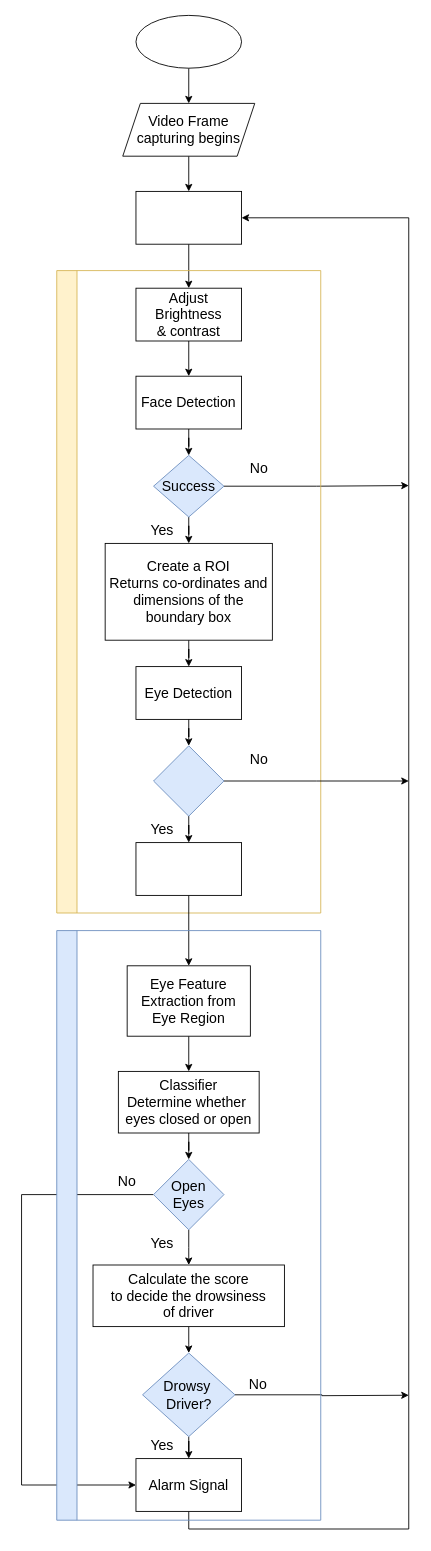
The diagram is 431 pixels wide and 1551 high, and some of its shapes have lost their labels. The shapes that lost their labels are listed below. From the top down, each one's box as (x1, y1, x2, y2) in pixels, then its label:
(135, 15, 242, 68): Start
(135, 191, 242, 244): New Image
(56, 270, 321, 913): Eye Detection Function
(153, 745, 224, 816): Sucess
(135, 842, 242, 895): Extract Eye Region (ROI)
(56, 930, 321, 1520): Drowsiness Calculation Function
